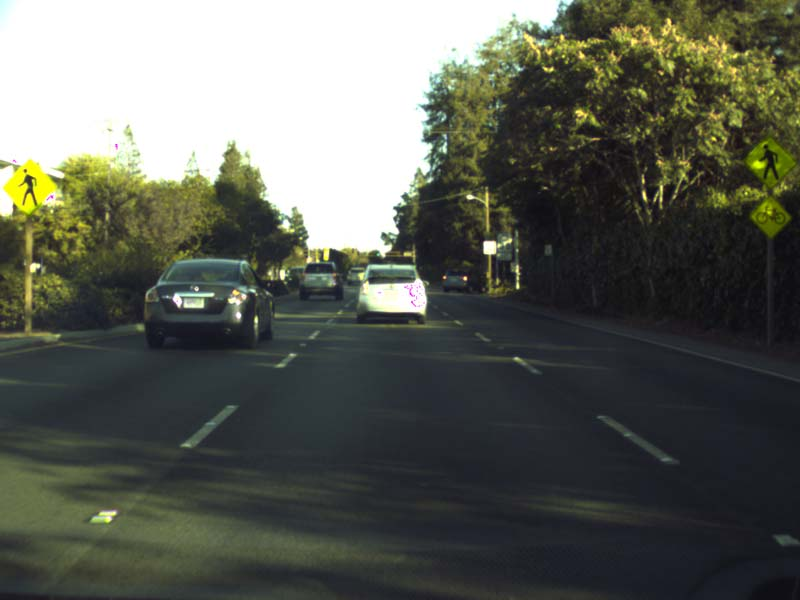Green: (375, 251, 379, 256)
